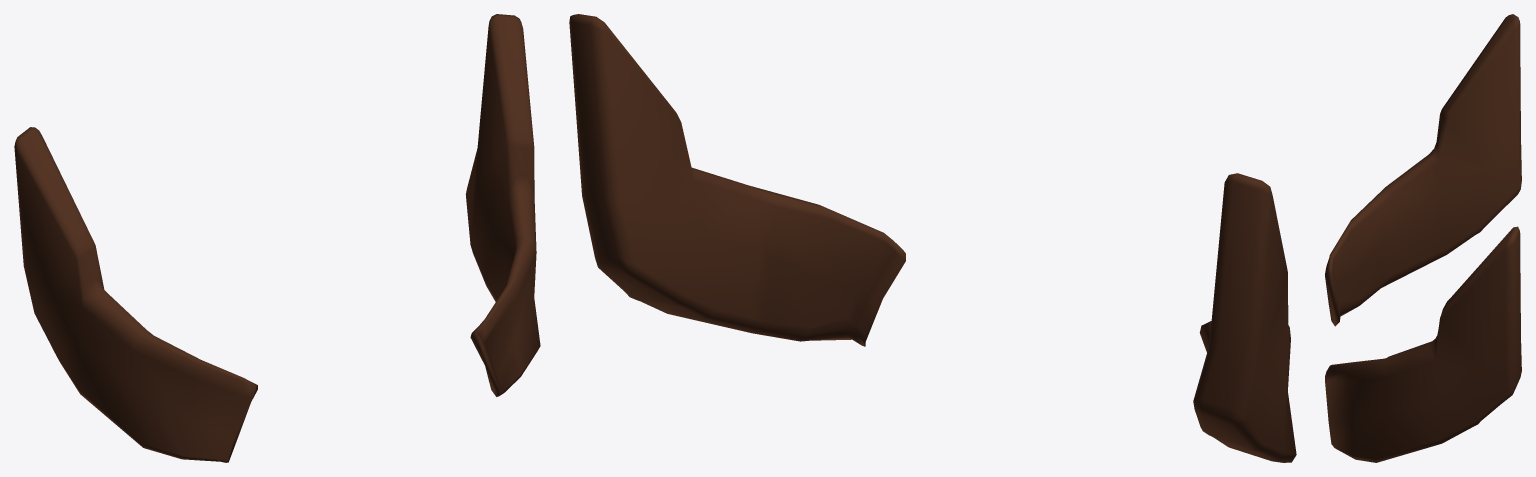
The model's file is aa-beaard-full-muttonchops.glb.
The picture shows the model from 3 angles, left to right: view 1: azimuth 30°, elevation 25°; view 2: azimuth 150°, elevation 25°; view 3: azimuth 270°, elevation 25°; orthographic projection. The views are drawn at different scales.
Visible parts, largest first — view 1: beardFullMuttonchops; view 2: beardFullMuttonchops; view 3: beardFullMuttonchops.
Part boxes in pixels (<box>): beardFullMuttonchops: <box>14,14,540,462</box>; beardFullMuttonchops: <box>569,14,1296,462</box>; beardFullMuttonchops: <box>1325,14,1521,462</box>.
Bounding box in the file's own units: 0.4441 × 0.2408 × 0.1623.
1 material, 1 textured.
